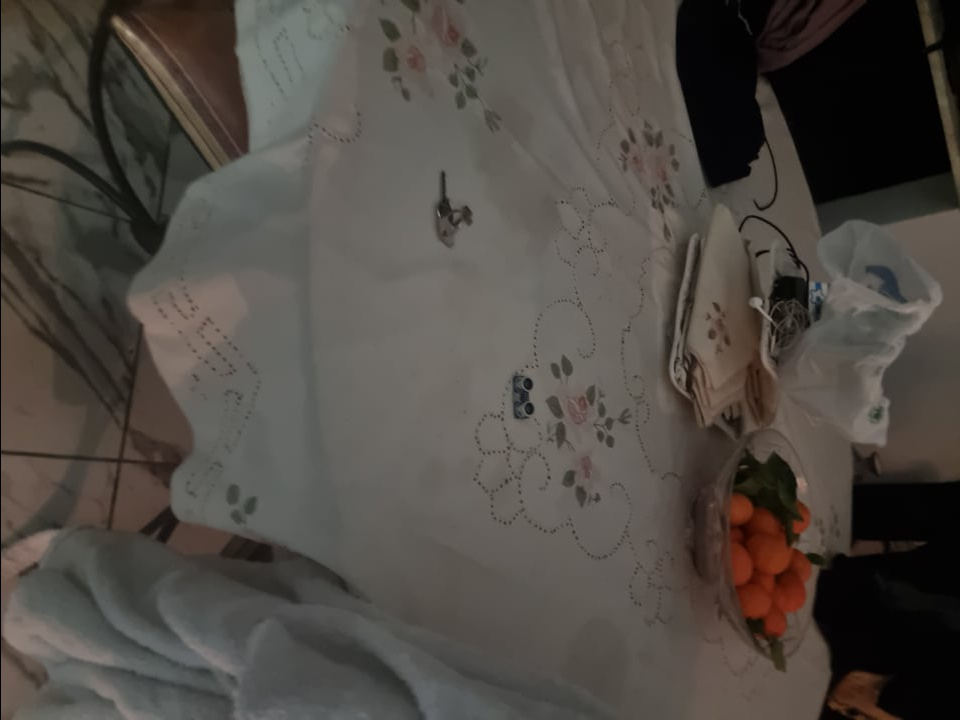SENSOR: (510, 372, 533, 419)
